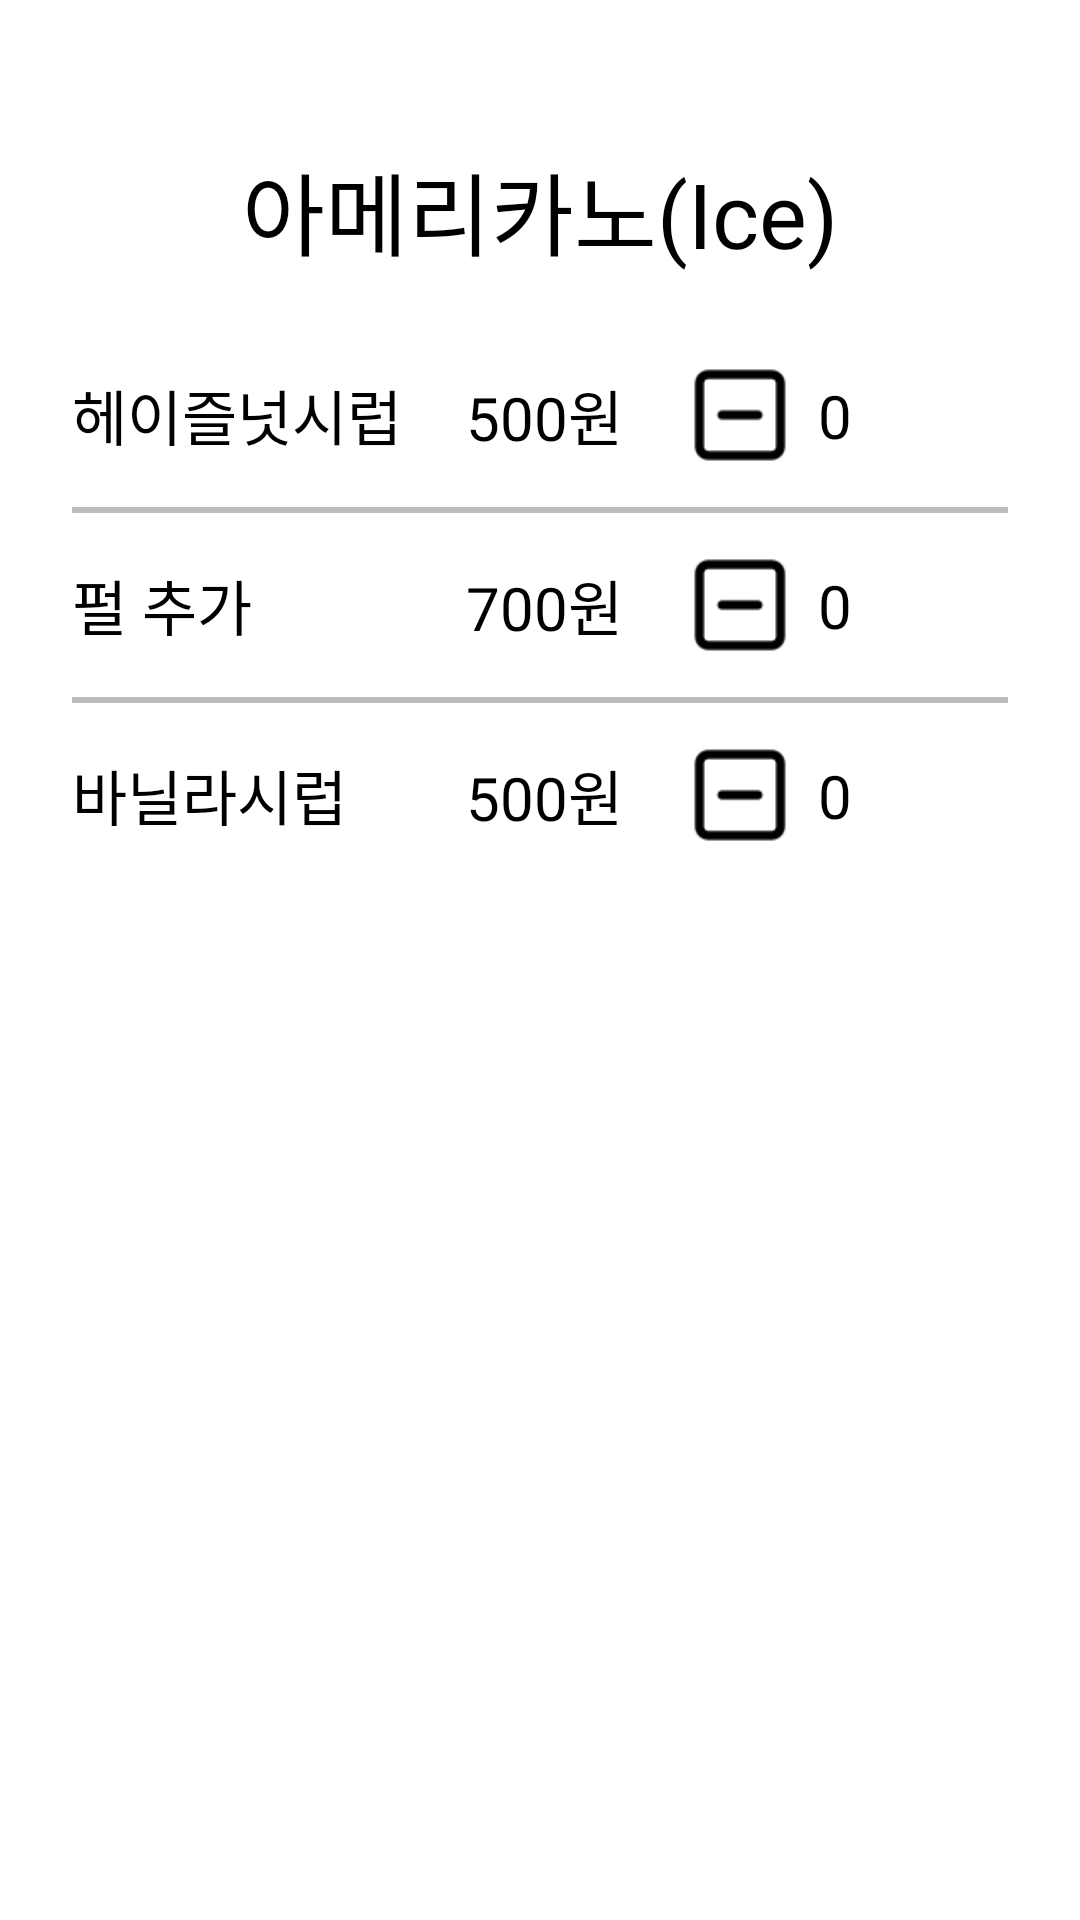

Icon click points for this 1080*1920 phone screenshot, format [x,y]:
square minus: [740,415], [740,605], [740,795]
